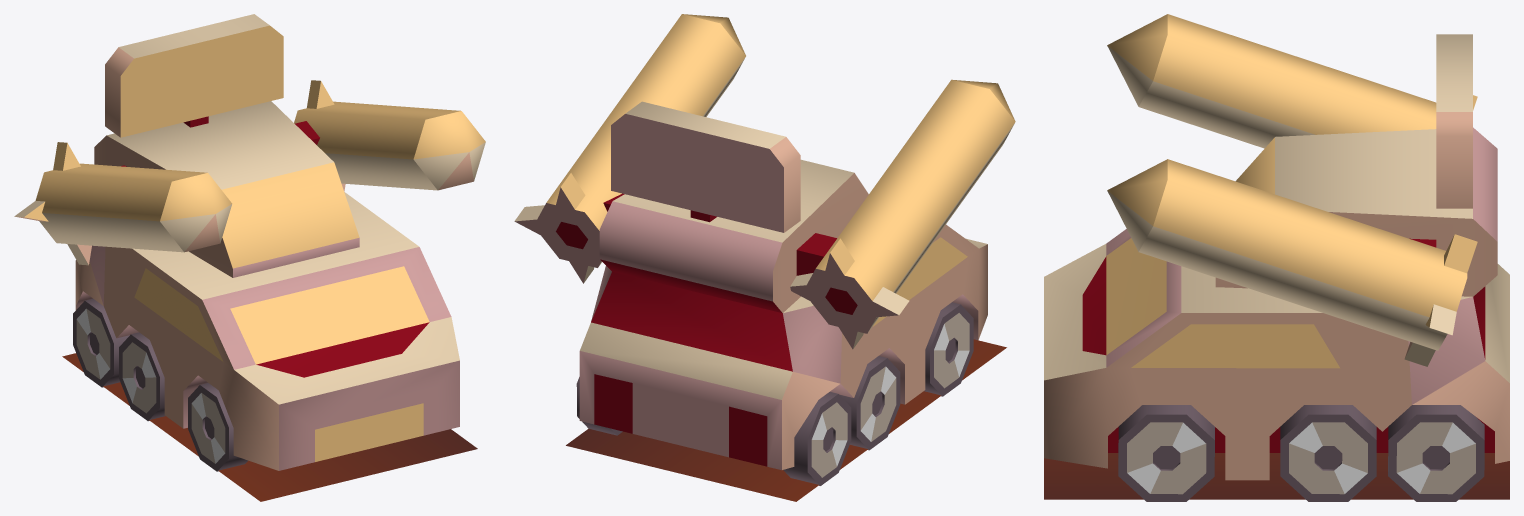
The model's file is MissileMesh.WhiteNova.glb.
3 views of the same model, side by side, from view 1: azimuth 30°, elevation 25°; view 2: azimuth 150°, elevation 25°; view 3: azimuth 270°, elevation 25° (orthographic). The views are drawn at different scales.
Visible parts, largest first — view 1: MissileMesh.WhiteNova; view 2: MissileMesh.WhiteNova; view 3: MissileMesh.WhiteNova.
Boxes of the visible parts, bbox=[...] form: MissileMesh.WhiteNova: bbox=[14, 14, 485, 501]; MissileMesh.WhiteNova: bbox=[514, 14, 1015, 501]; MissileMesh.WhiteNova: bbox=[1044, 14, 1509, 501].
Bounding box in the file's own units: 2 × 1.65 × 1.9.
Materials: 1 (1 with a texture image).
